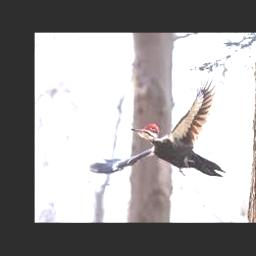Woodpecker: (89, 72, 225, 177)
